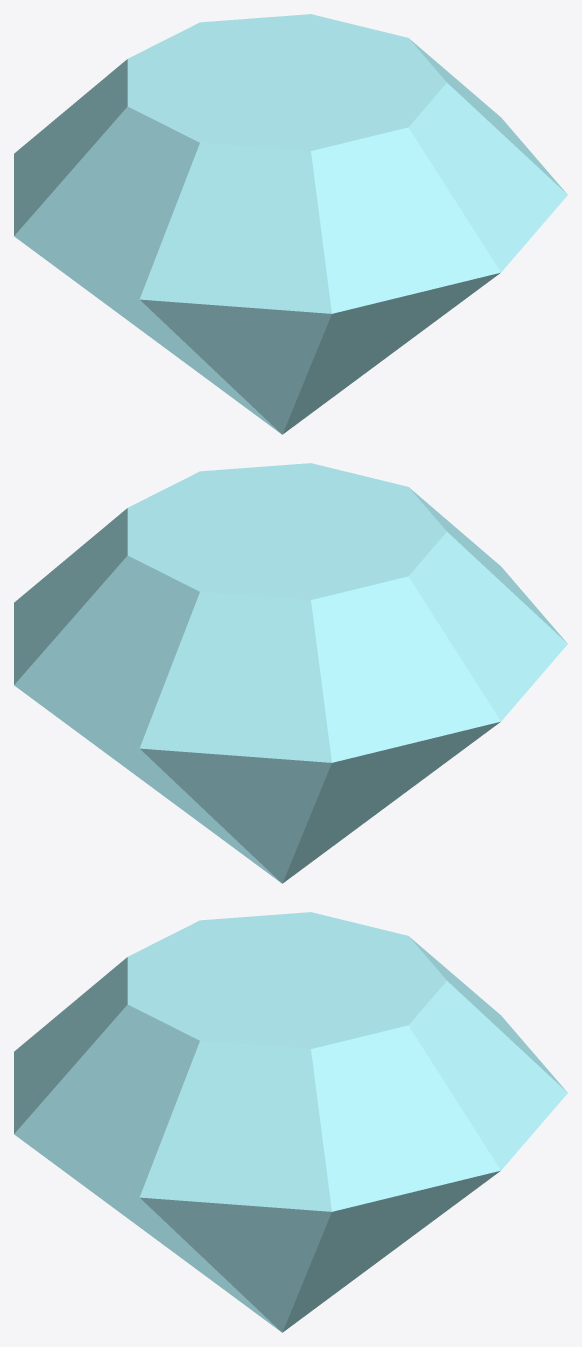
File: Crystal Blue.fbx
The picture shows the model from 3 angles, top to bottom: view 1: azimuth 30°, elevation 25°; view 2: azimuth 150°, elevation 25°; view 3: azimuth 270°, elevation 25°; orthographic projection.
Visible parts, largest first — view 1: Crystal Blue; view 2: Crystal Blue; view 3: Crystal Blue.
Part boxes in pixels (left/top/right/bottom): Crystal Blue: left=14, top=14, right=567, bottom=434; Crystal Blue: left=14, top=463, right=567, bottom=883; Crystal Blue: left=14, top=912, right=567, bottom=1332.
Size of the model in its own units: 93.7 by 64.74 by 92.27.
